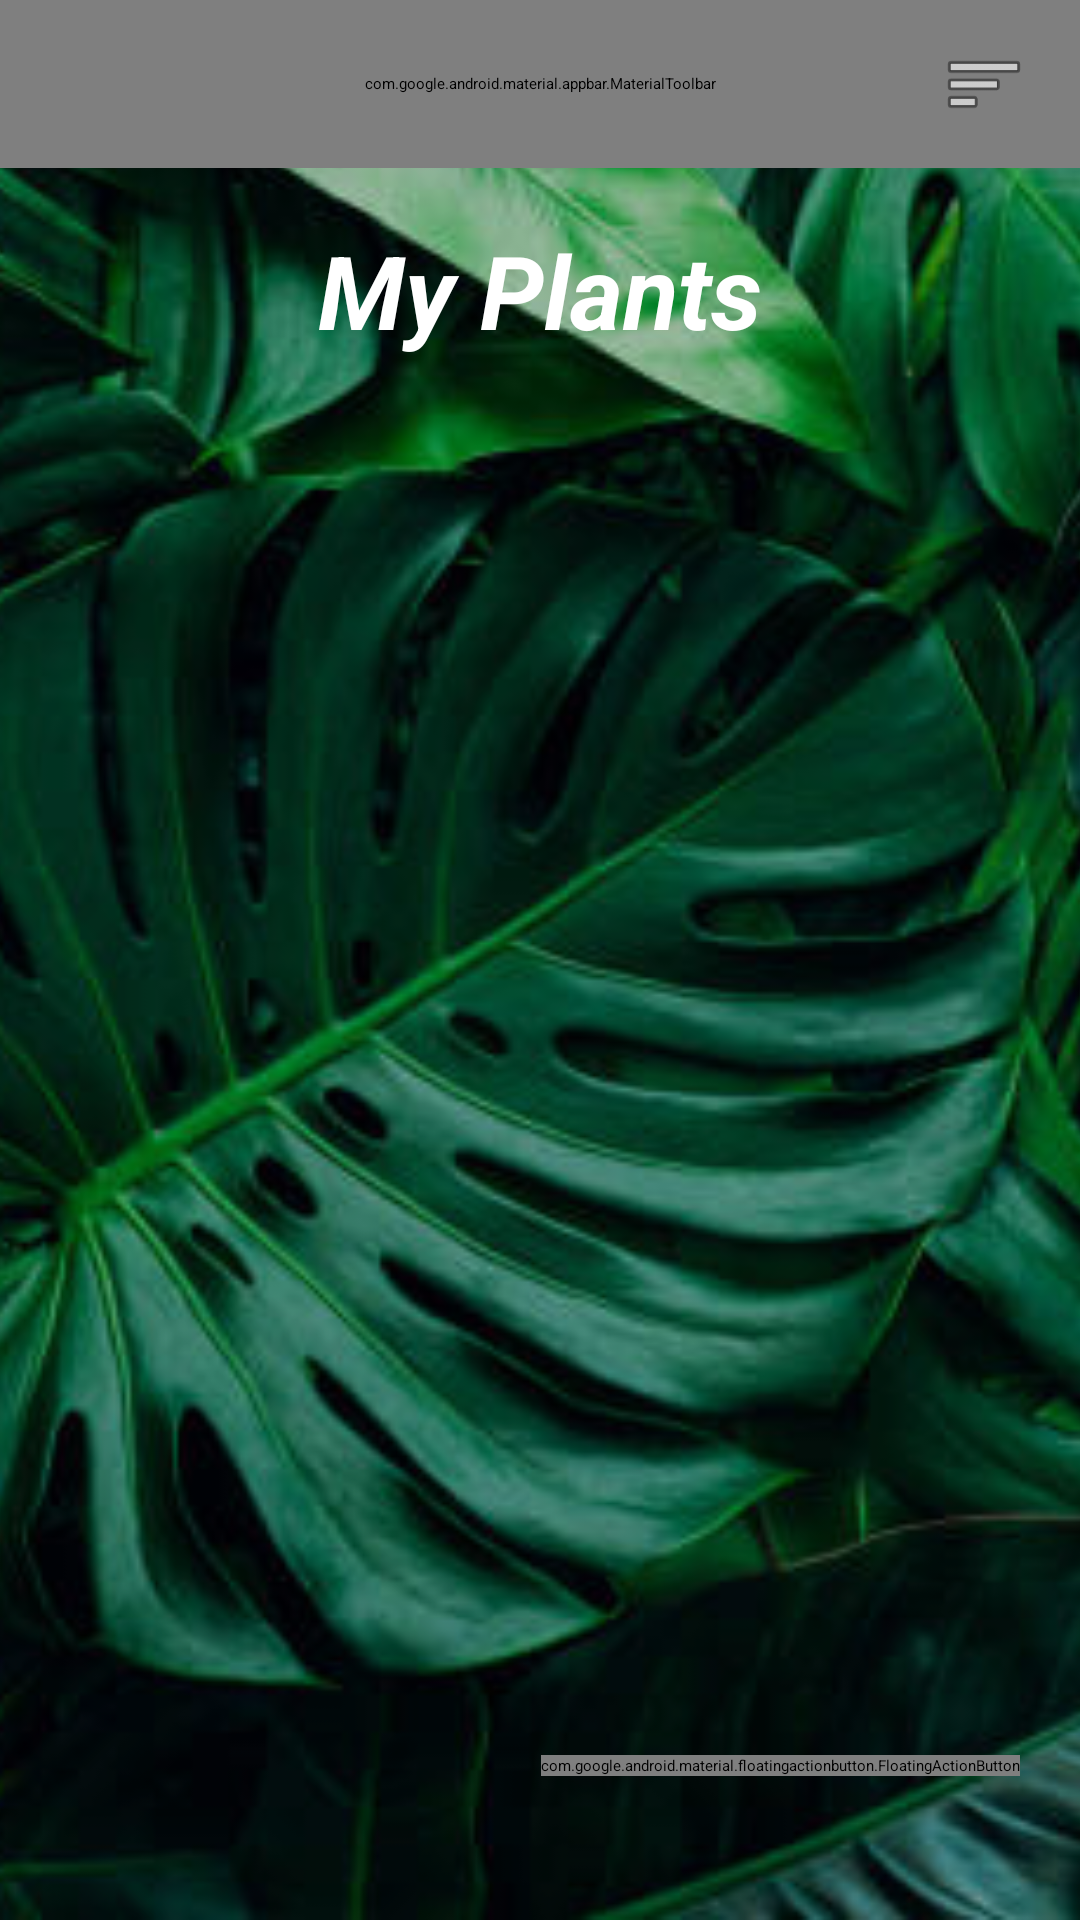

Icon bounding boxes for this 1080×1920 phone screenshot, format rect(x1, y1, x2, y2):
Open menu: rect(948, 61, 1020, 108)
